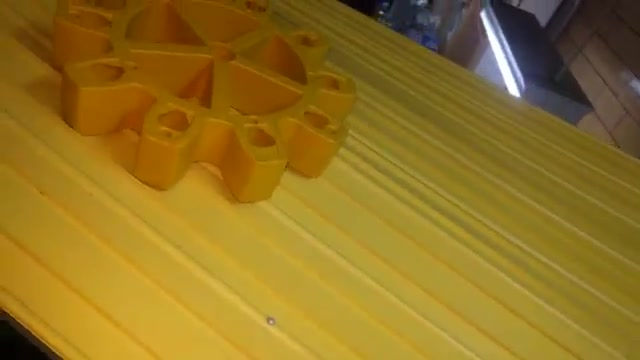gear: (51, 1, 377, 238)
